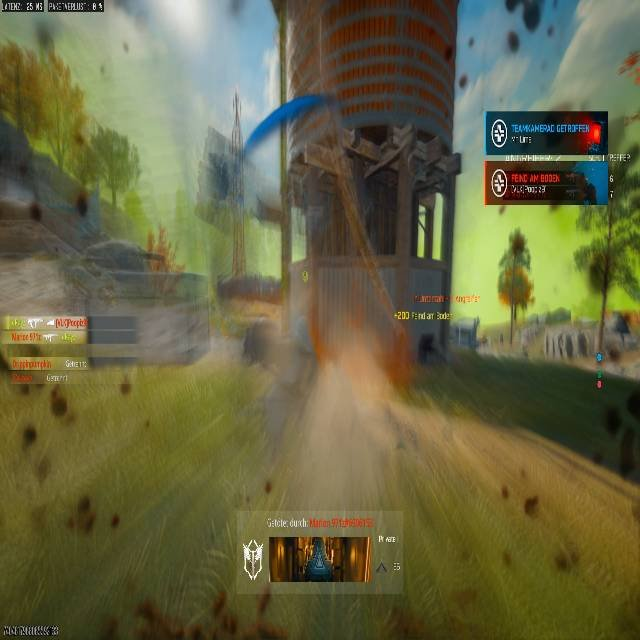player: (495, 232, 533, 330), (606, 386, 639, 481), (417, 332, 436, 365)
